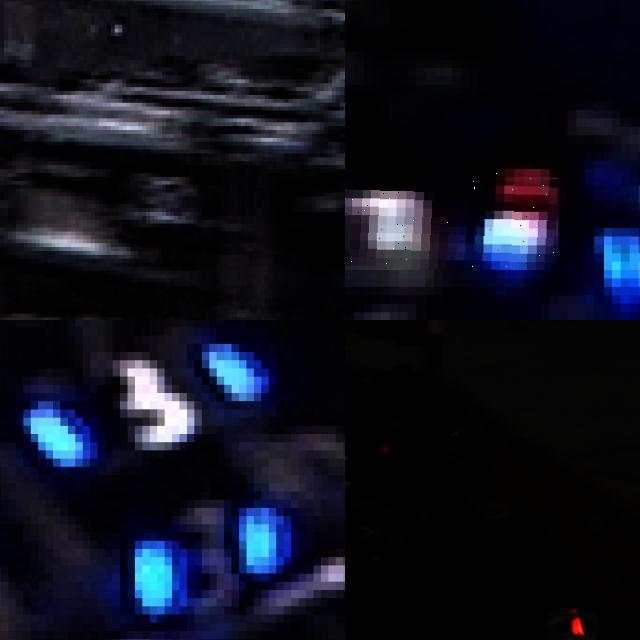B1: (345, 169, 558, 270)
B3: (1, 327, 276, 467), (120, 492, 284, 639)
